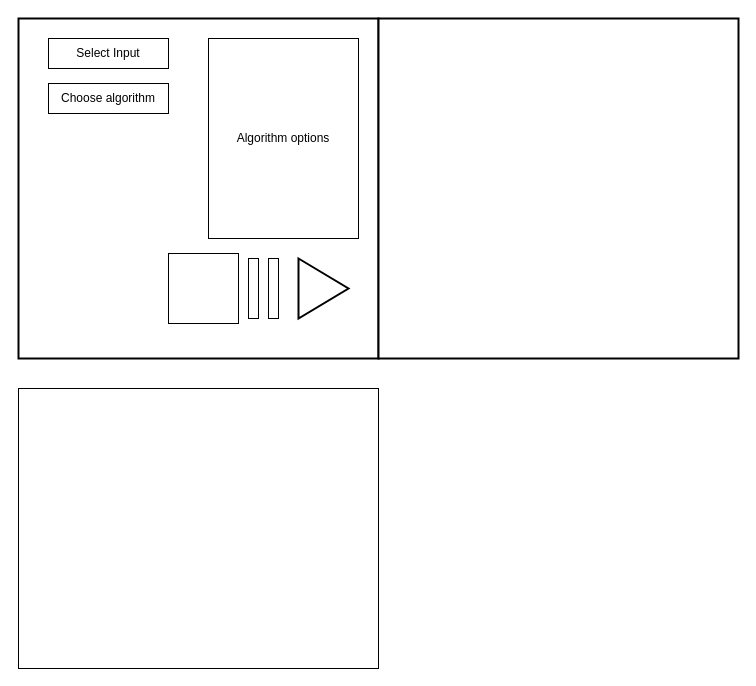
This 756x686 diagram has some shape labels left out. The shapes that lost their labels are listed below. From the top down, each one's box as (x1, y1, x2, y2) in pixels, then its label:
(377, 17, 739, 359): Draw path
(18, 388, 378, 668): Draw points
